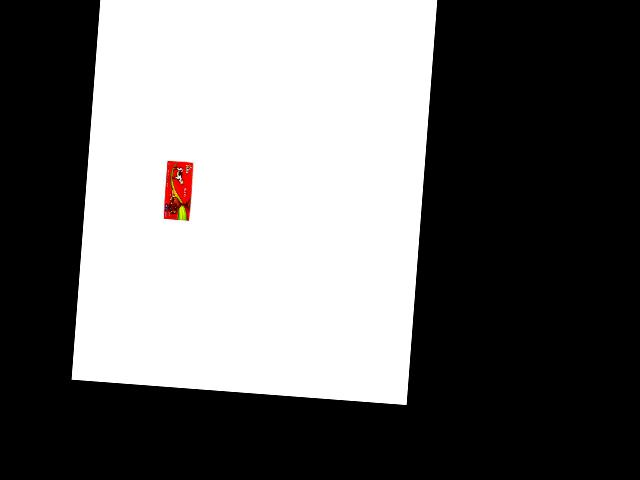chocolate: (157, 156, 195, 222)
